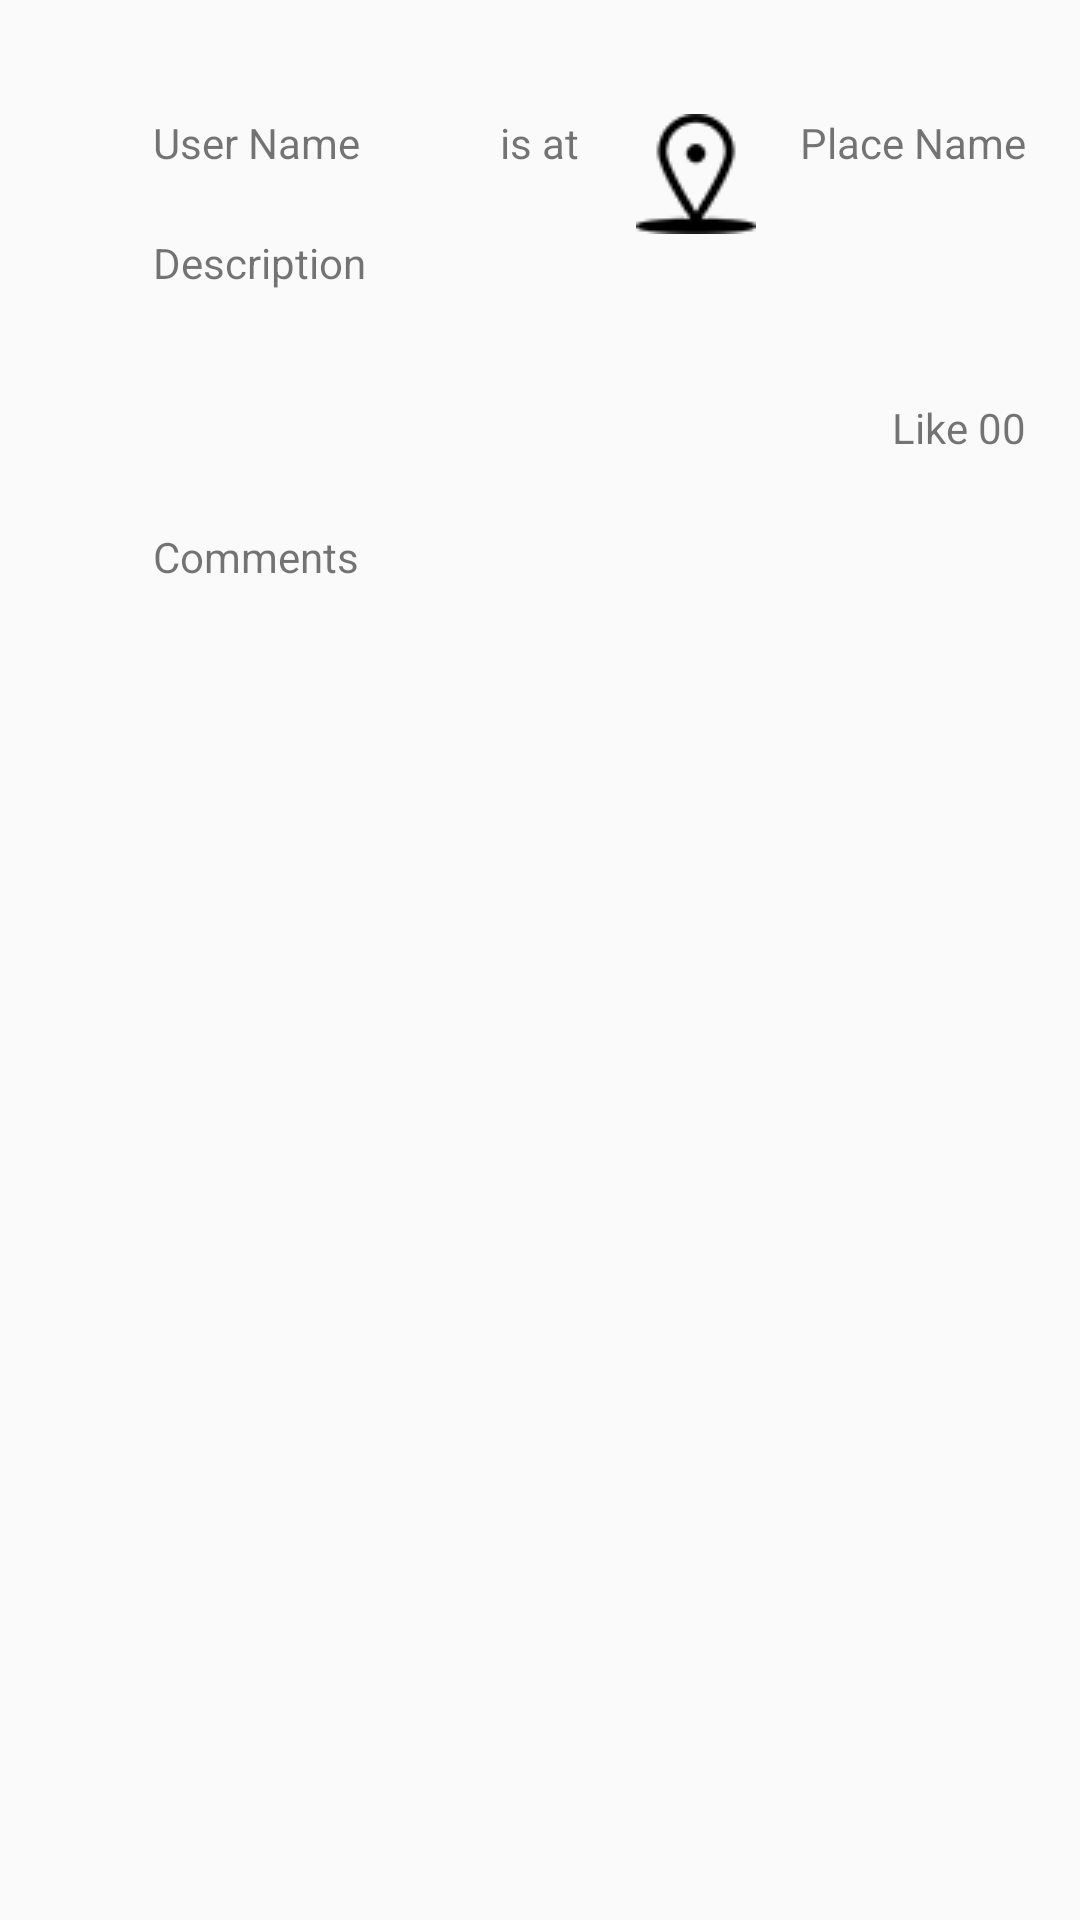

Locate icon controls on the screen. Image size 1080×1920, boxes as (x1,y1,x2,y2).
check in: (636,114,756,234)
